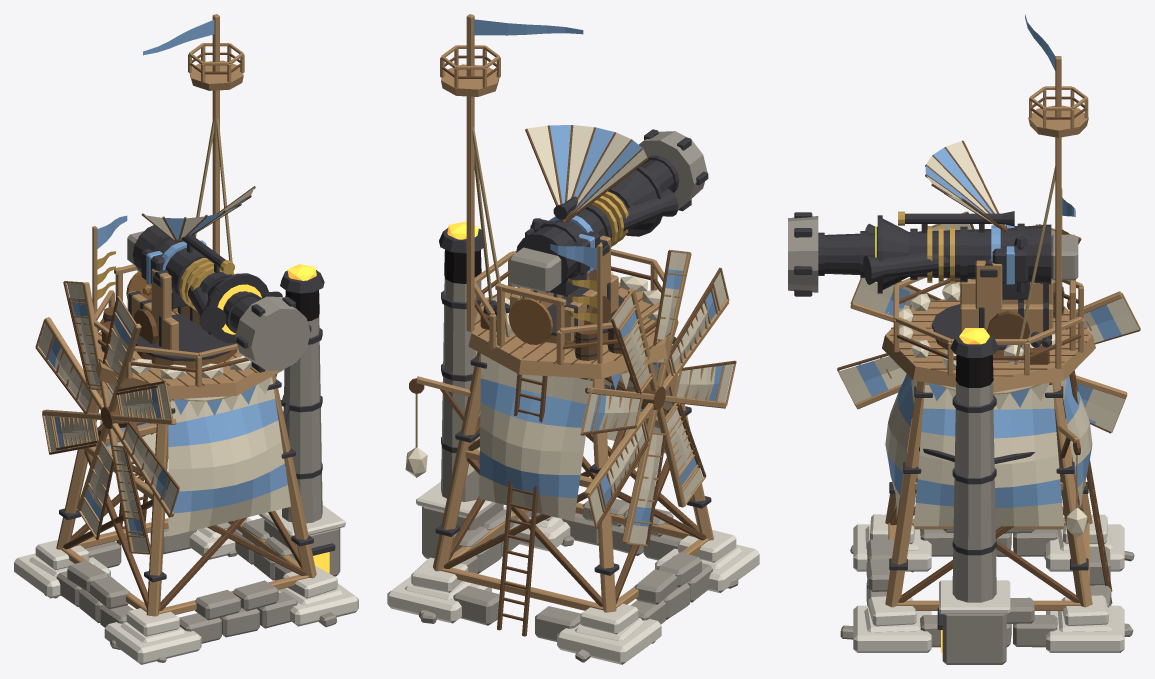
Rendered from cannon.glb.
3 views of the same model, side by side, from view 1: azimuth 30°, elevation 25°; view 2: azimuth 150°, elevation 25°; view 3: azimuth 270°, elevation 25° (orthographic). The views are drawn at different scales.
Visible parts, largest first — view 1: Cannon__mesh, Cannon__quake__mesh, Cannon_Vanes_fan__fan__mesh, Cannon__blaze__mesh, Cannon__lofty__mesh, Cannon_Yaw__mesh, Cannon_Pitch__heavy_quake__mesh, Cannon_Vanes__not_fan__mesh, Cannon_Pitch__fan__mesh, Cannon_Pitch__heavy__mesh, Cannon__heavy__mesh, Cannon_Pitch__scatter__not_fan__mesh (+3 smaller); view 2: Cannon__mesh, Cannon__quake__mesh, Cannon_Vanes_fan__fan__mesh, Cannon__blaze__mesh, Cannon_Pitch__fan__mesh, Cannon__lofty__mesh, Cannon_Vanes__not_fan__mesh, Cannon_Pitch__heavy_quake__mesh, Cannon_Pitch__heavy__mesh, Cannon_Yaw__mesh, Cannon__heavy__mesh, Cannon_Pitch__scatter__not_fan__mesh; view 3: Cannon__mesh, Cannon__blaze__mesh, Cannon__quake__mesh, Cannon_Pitch__heavy__mesh, Cannon_Vanes_fan__fan__mesh, Cannon_Pitch__fan__mesh, Cannon_Yaw__mesh, Cannon__lofty__mesh, Cannon_Pitch__heavy_quake__mesh, Cannon__heavy__mesh, Cannon_Vanes__not_fan__mesh, Cannon_Pitch__scatter__not_fan__mesh (+3 smaller).
Boxes of the visible parts, <box> form: Cannon__mesh: <box>29,215,346,662</box>; Cannon__quake__mesh: <box>14,264,358,664</box>; Cannon_Vanes_fan__fan__mesh: <box>35,281,179,554</box>; Cannon__blaze__mesh: <box>101,264,345,576</box>; Cannon__lofty__mesh: <box>143,14,244,272</box>; Cannon_Yaw__mesh: <box>127,269,237,368</box>; Cannon_Pitch__heavy_quake__mesh: <box>127,231,311,372</box>; Cannon_Vanes__not_fan__mesh: <box>50,297,164,537</box>; Cannon_Pitch__fan__mesh: <box>141,186,283,332</box>; Cannon_Pitch__heavy__mesh: <box>132,225,261,333</box>; Cannon__heavy__mesh: <box>59,355,313,582</box>; Cannon_Pitch__scatter__not_fan__mesh: <box>206,273,268,343</box>; Cannon__mesh: <box>404,243,742,662</box>; Cannon__quake__mesh: <box>387,283,759,664</box>; Cannon_Vanes_fan__fan__mesh: <box>580,249,736,546</box>; Cannon__blaze__mesh: <box>416,221,622,558</box>; Cannon_Pitch__fan__mesh: <box>525,125,678,274</box>; Cannon__lofty__mesh: <box>440,14,583,337</box>; Cannon_Vanes__not_fan__mesh: <box>593,284,720,512</box>; Cannon_Pitch__heavy_quake__mesh: <box>509,129,708,293</box>; Cannon_Pitch__heavy__mesh: <box>516,155,679,290</box>; Cannon_Yaw__mesh: <box>510,235,624,344</box>; Cannon__heavy__mesh: <box>435,271,711,575</box>; Cannon_Pitch__scatter__not_fan__mesh: <box>614,166,662,236</box>; Cannon__mesh: <box>840,188,1134,639</box>; Cannon__blaze__mesh: <box>919,282,1064,664</box>; Cannon__quake__mesh: <box>853,279,1124,652</box>; Cannon_Pitch__heavy__mesh: <box>818,223,1051,284</box>; Cannon_Vanes_fan__fan__mesh: <box>837,211,1140,433</box>; Cannon_Pitch__fan__mesh: <box>863,140,1028,284</box>; Cannon_Yaw__mesh: <box>931,260,1053,355</box>; Cannon__lofty__mesh: <box>1014,14,1088,368</box>; Cannon_Pitch__heavy_quake__mesh: <box>788,212,1078,296</box>; Cannon__heavy__mesh: <box>889,283,1088,570</box>; Cannon_Vanes__not_fan__mesh: <box>868,282,1109,422</box>; Cannon_Pitch__scatter__not_fan__mesh: <box>876,215,909,293</box>.
Bounding box in the file's own units: 8.62 × 17.78 × 9.88.
